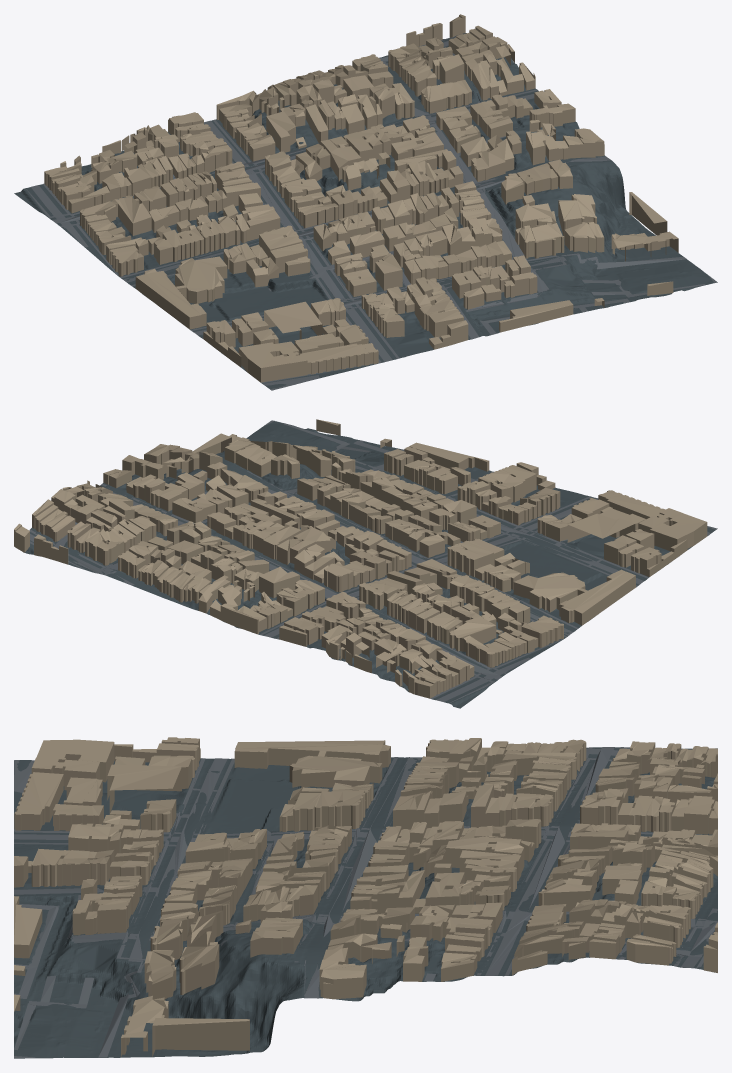
The model's file is epsg26910-1437-10896.lod0.glb.
3 renders of one model, top to bottom at view 1: azimuth 30°, elevation 25°; view 2: azimuth 150°, elevation 25°; view 3: azimuth 270°, elevation 25°, orthographic. The views are drawn at different scales.
Parts seen in each view (by area): view 1: epsg26910-1437-10896-lod0; view 2: epsg26910-1437-10896-lod0; view 3: epsg26910-1437-10896-lod0.
Boxes of the visible parts, x1,y1,x2,y2 form: epsg26910-1437-10896-lod0: [14, 14, 717, 390]; epsg26910-1437-10896-lod0: [14, 419, 717, 708]; epsg26910-1437-10896-lod0: [14, 737, 717, 1058].
Bounding box in the file's own units: 384 × 71.77 × 384.
